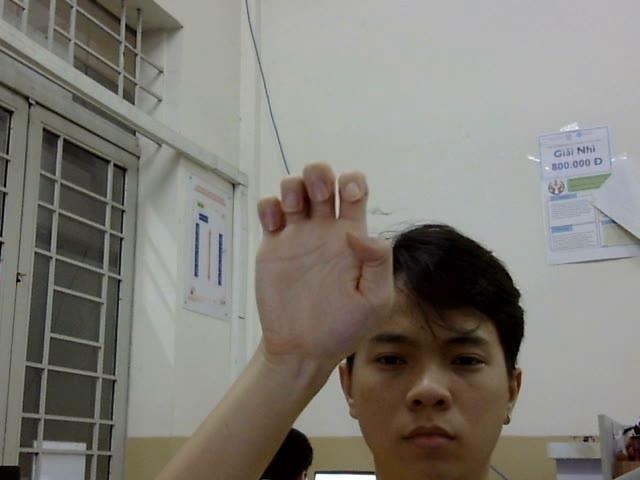E: (252, 158, 393, 355)
